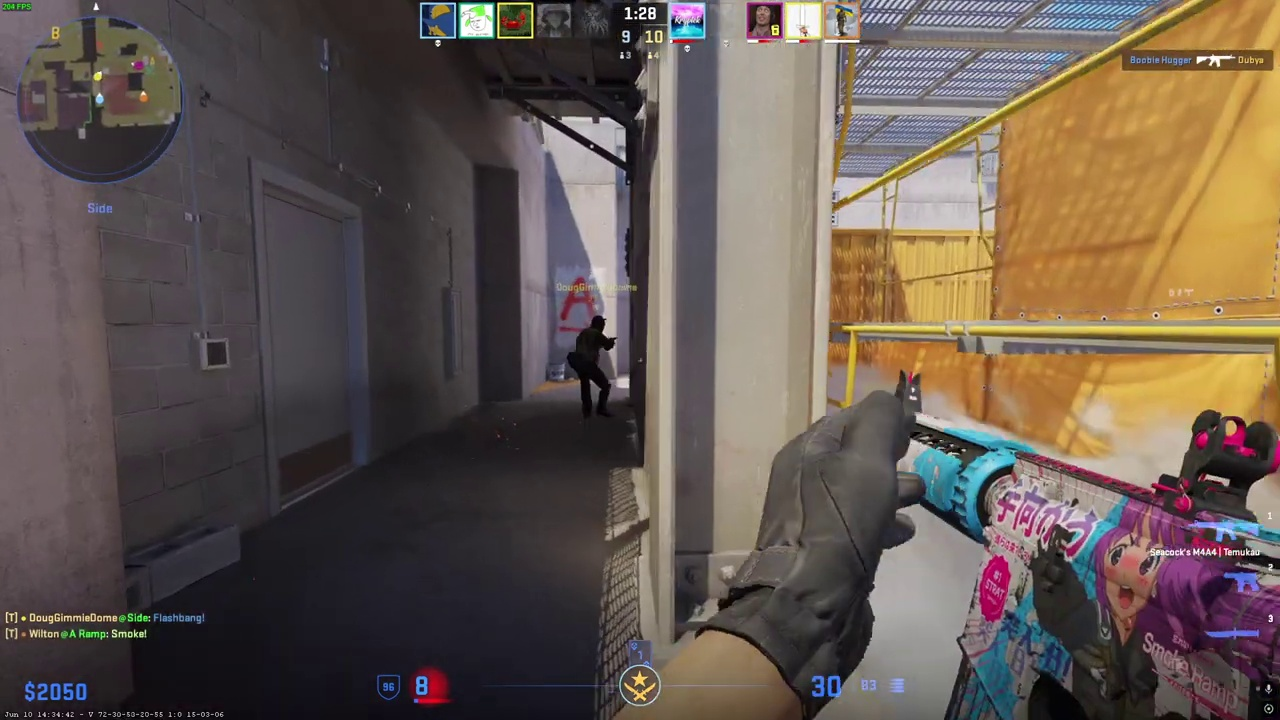Terrorist: (573, 315, 615, 418)
